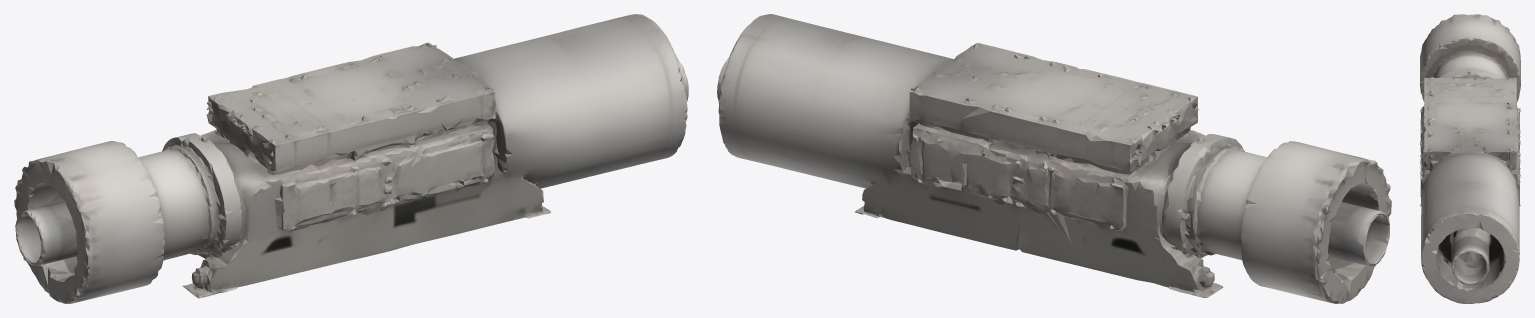
File: titan_weapon_primary.glb
3 renders of one model, left to right at view 1: azimuth 30°, elevation 25°; view 2: azimuth 150°, elevation 25°; view 3: azimuth 270°, elevation 25°, orthographic. The views are drawn at different scales.
Visible parts, largest first — view 1: titan_weapon_primary; view 2: titan_weapon_primary; view 3: titan_weapon_primary.
Part boxes in pixels (bbox=[...]): titan_weapon_primary: bbox=[14, 14, 688, 303]; titan_weapon_primary: bbox=[717, 14, 1391, 303]; titan_weapon_primary: bbox=[1420, 14, 1520, 303].
Bounding box in the file's own units: 1.89 × 0.3839 × 0.3743.
Materials: 1 (1 with a texture image).
